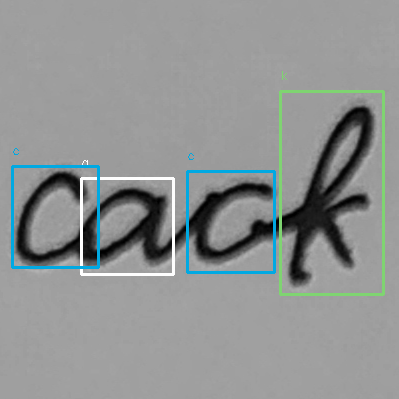a: (71, 184, 171, 271)
c: (187, 172, 281, 265), (10, 166, 91, 272)
k: (283, 100, 378, 289)
